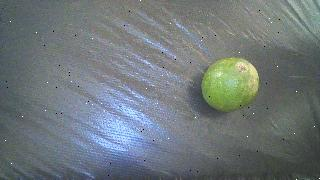DESECHO: (201, 58, 259, 113)
